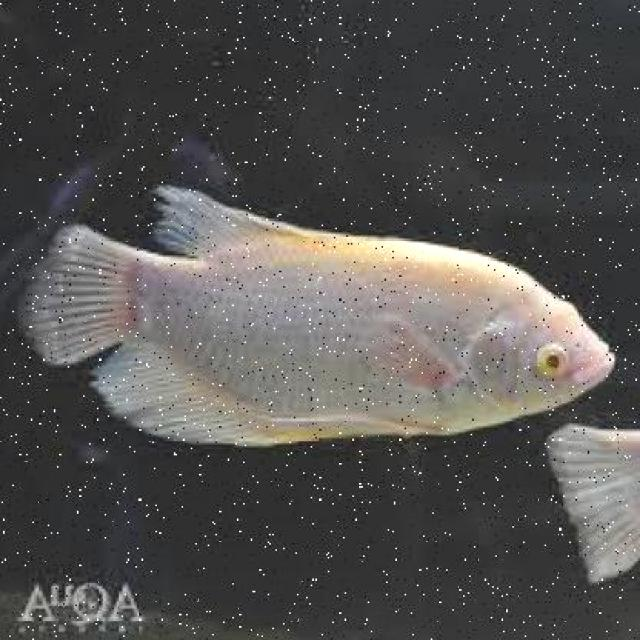gurame: (28, 193, 614, 444)
